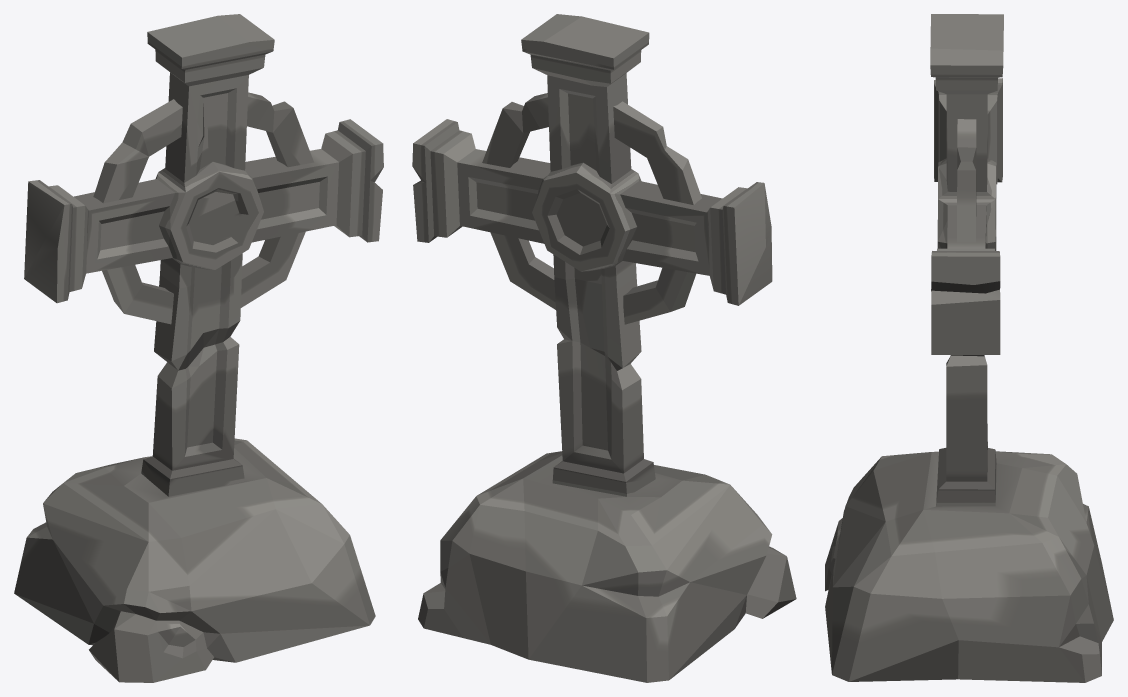
The model's file is crypt_stone_a.gltf.
3 views of the same model, side by side, from view 1: azimuth 30°, elevation 25°; view 2: azimuth 150°, elevation 25°; view 3: azimuth 270°, elevation 25° (orthographic). The views are drawn at different scales.
Visible parts, largest first — view 1: crypt_stone_a; view 2: crypt_stone_a; view 3: crypt_stone_a.
Boxes of the visible parts, <box> form: crypt_stone_a: <box>14,14,383,682</box>; crypt_stone_a: <box>412,14,796,682</box>; crypt_stone_a: <box>825,14,1113,682</box>.
Size of the model in its own units: 0.7721 by 1.26 by 0.5595.
Materials: 1 (1 with a texture image).
